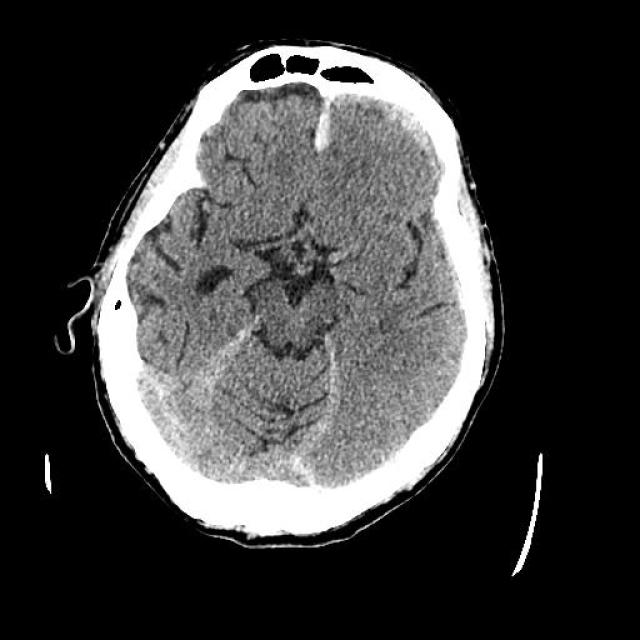Subarachnoid: (148, 305, 270, 460), (291, 296, 370, 502)
Subdural: (335, 88, 457, 186), (292, 85, 344, 177)
